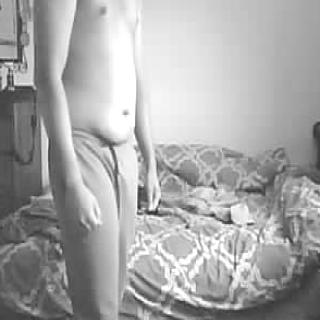Blue Sweatpants: (48, 122, 147, 320)
